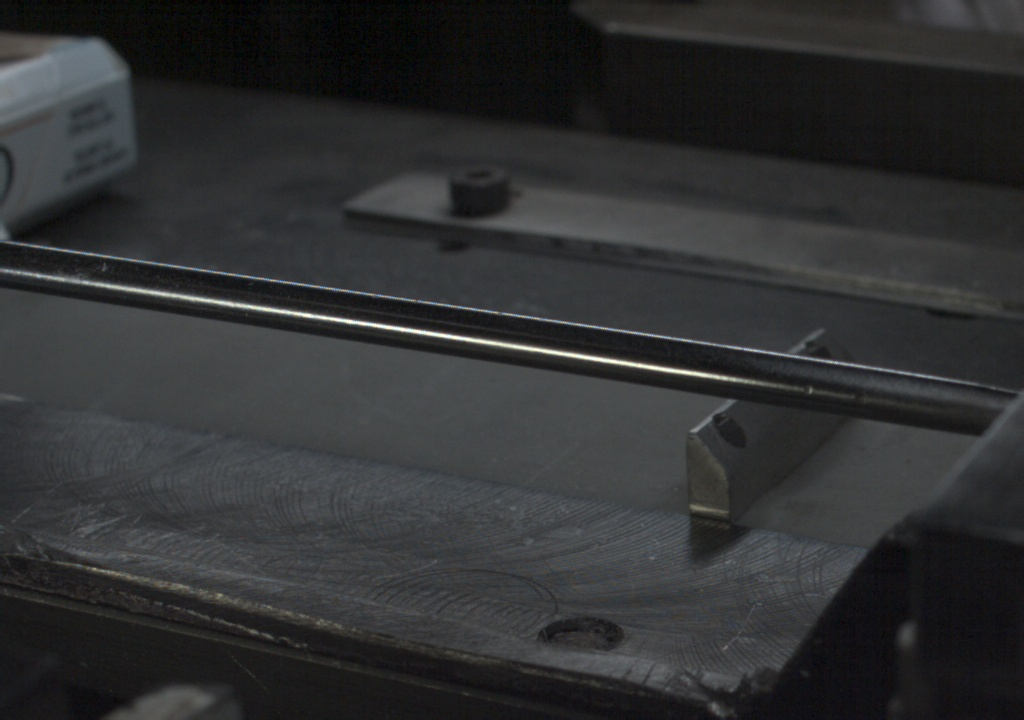empty: (278, 231, 837, 550)
